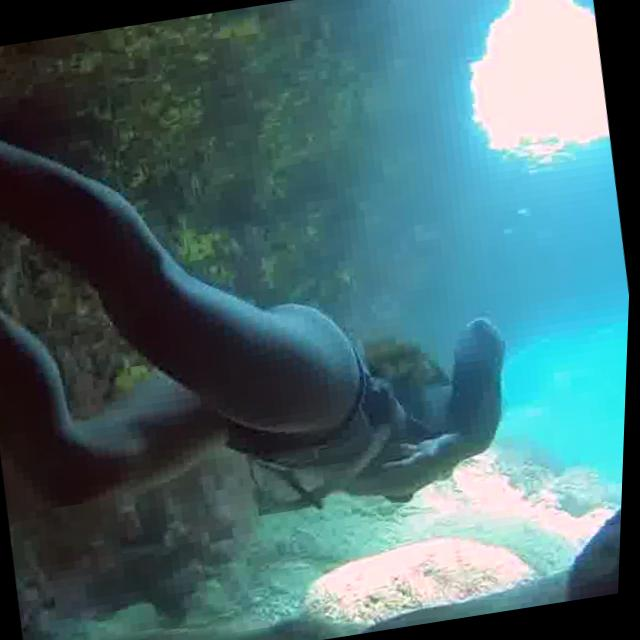human: (0, 0, 542, 575)
